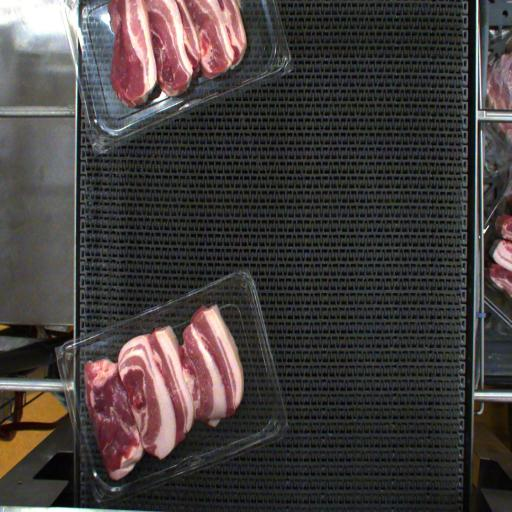twisted-meat: (88, 360, 139, 472)
